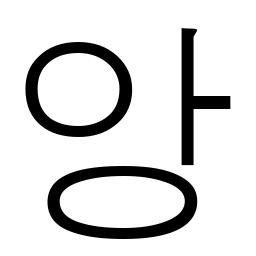Gaji: (162, 80, 216, 128)
